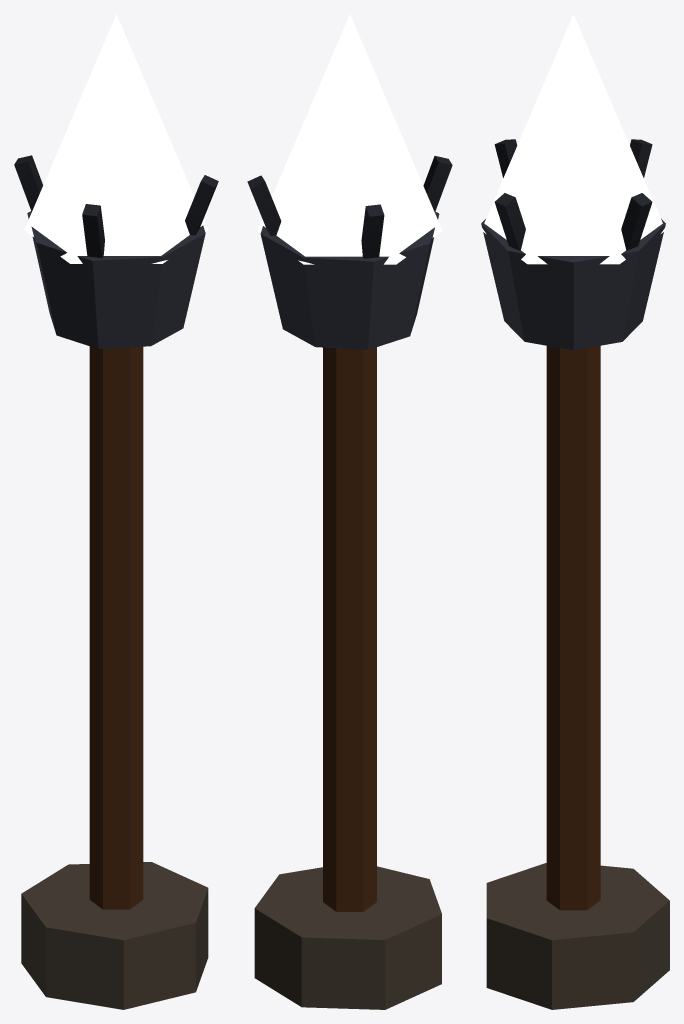
The model's file is cv_torch.glb.
3 views of the same model, side by side, from view 1: azimuth 30°, elevation 25°; view 2: azimuth 150°, elevation 25°; view 3: azimuth 270°, elevation 25° (orthographic).
Parts seen in each view (by area): view 1: body, pulse_flame_glow; view 2: body, pulse_flame_glow; view 3: body, pulse_flame_glow.
Part boxes in pixels (box(x1,y1,x2,y2)): body: box(14, 155, 218, 1009); pulse_flame_glow: box(24, 14, 208, 263); body: box(247, 156, 452, 1009); pulse_flame_glow: box(257, 14, 442, 264); body: box(481, 139, 669, 1009); pulse_flame_glow: box(481, 14, 665, 264).
Size of the model in its own units: 0.4875 by 2.74 by 0.49.
